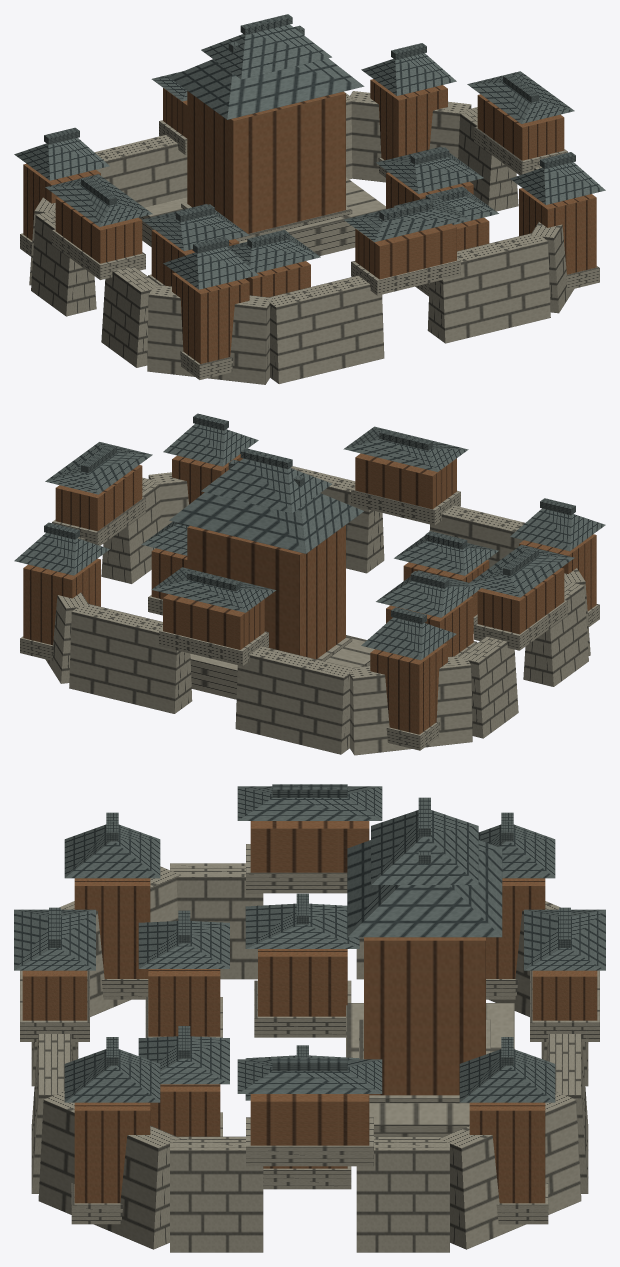
Rendered from city2-lod2.glb.
3 views of the same model, one above another, from view 1: azimuth 30°, elevation 25°; view 2: azimuth 150°, elevation 25°; view 3: azimuth 270°, elevation 25° (orthographic). The views are drawn at different scales.
Bounding box in the file's own units: 2.03 × 0.901 × 1.65.
1 material, 1 textured.
